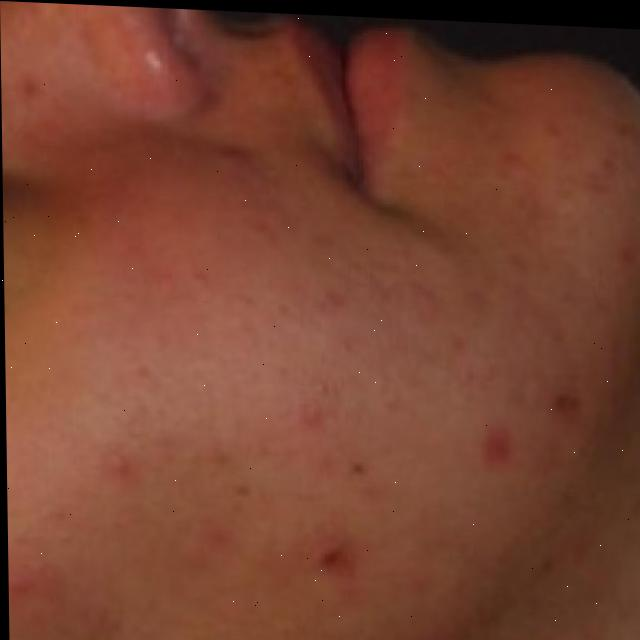Acne: (111, 269, 635, 640)
